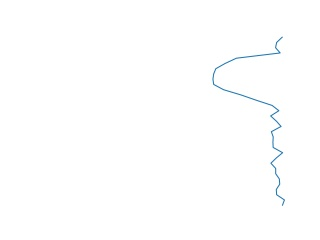distalBar: (206, 38, 291, 207)
